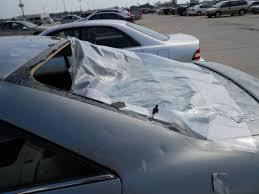Rear-windscreen-Damage: (36, 30, 205, 113)
pillar-dent: (69, 113, 192, 179)
